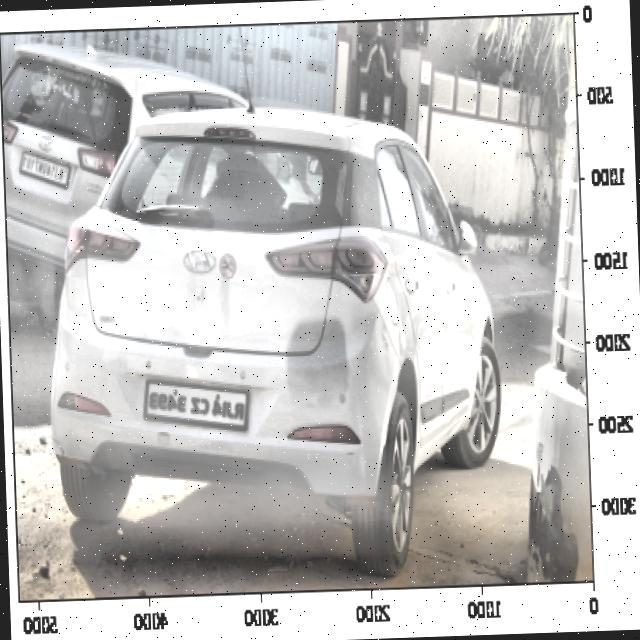license_plate: (143, 376, 252, 428), (22, 149, 72, 190)
